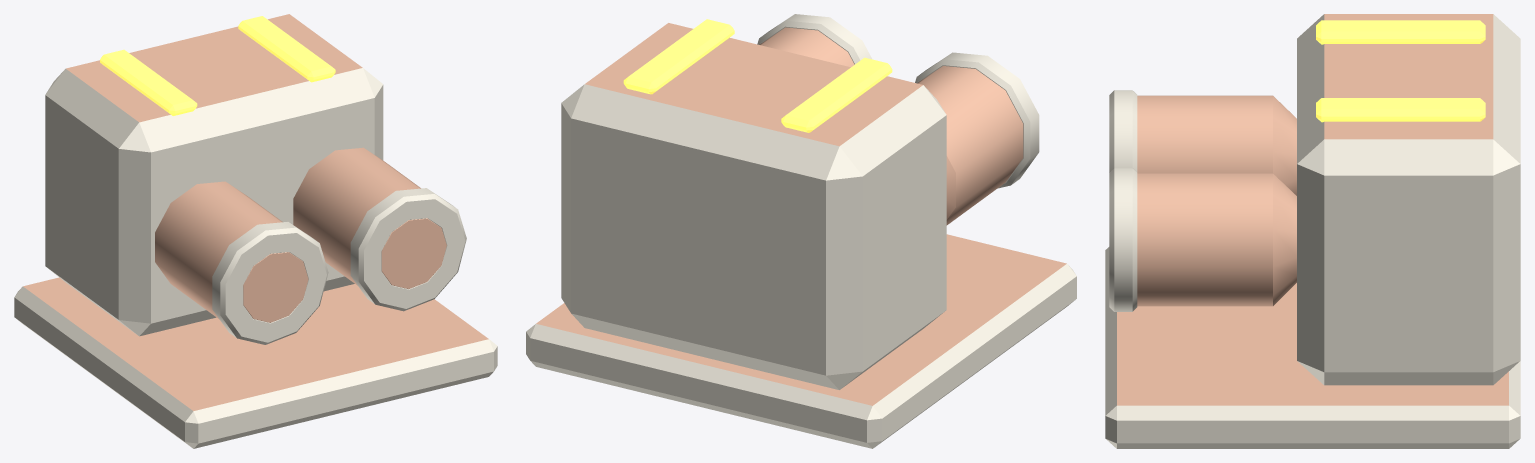
Rendered from R4X_DoubleShotPassive_LOD1.fbx.
The picture shows the model from 3 angles, left to right: view 1: azimuth 30°, elevation 25°; view 2: azimuth 150°, elevation 25°; view 3: azimuth 270°, elevation 25°; orthographic projection. The views are drawn at different scales.
Parts seen in each view (by area): view 1: R4X_DoubleShotPassive_LOD1; view 2: R4X_DoubleShotPassive_LOD1; view 3: R4X_DoubleShotPassive_LOD1.
Part boxes in pixels (<box>): R4X_DoubleShotPassive_LOD1: <box>14,14,497,448</box>; R4X_DoubleShotPassive_LOD1: <box>526,14,1076,448</box>; R4X_DoubleShotPassive_LOD1: <box>1105,14,1520,448</box>.
Bounding box in the file's own units: 0.52 × 0.4164 × 0.52.
